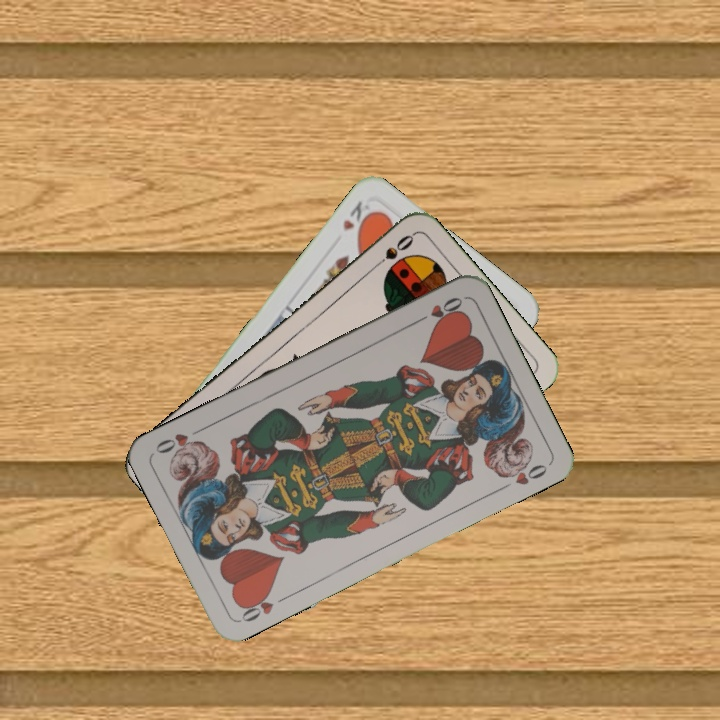HK: (338, 196, 376, 237)
HO: (235, 587, 291, 625), (411, 293, 465, 326)
SO: (367, 230, 417, 273)
